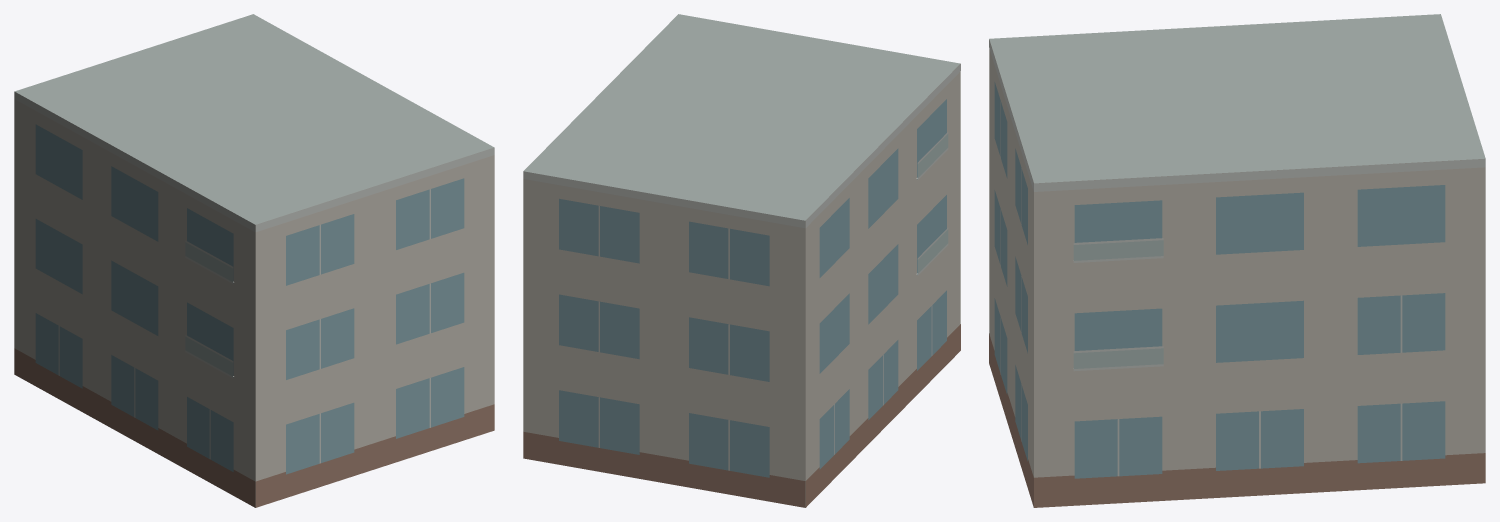
Rendered from survey-upis-32808524.glb.
3 renders of one model, left to right at view 1: azimuth 30°, elevation 25°; view 2: azimuth 150°, elevation 25°; view 3: azimuth 270°, elevation 25°, orthographic. The views are drawn at different scales.
Visible parts, largest first — view 1: survey-upis-32808524.tmp; view 2: survey-upis-32808524.tmp; view 3: survey-upis-32808524.tmp.
Boxes of the visible parts, box(x1,y1,x2,y2) form: survey-upis-32808524.tmp: box(14, 14, 494, 507); survey-upis-32808524.tmp: box(523, 14, 960, 507); survey-upis-32808524.tmp: box(989, 14, 1485, 507).
Bounding box in the file's own units: 10.25 × 9.15 × 12.7.
